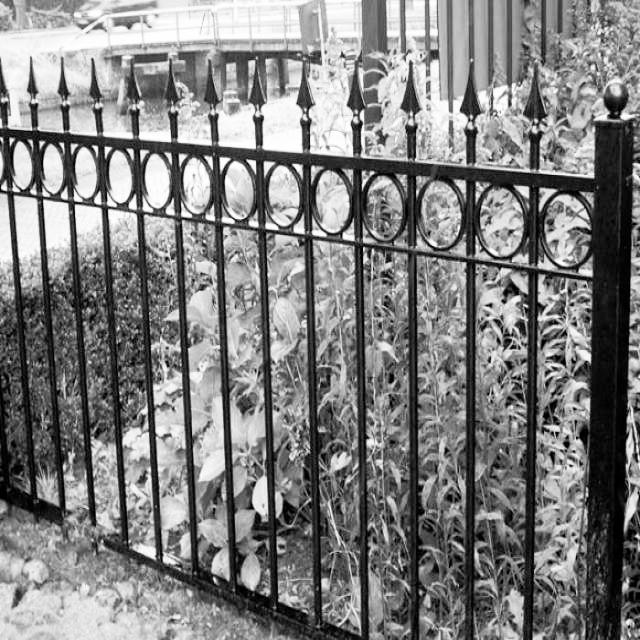fences: (3, 62, 640, 639)
